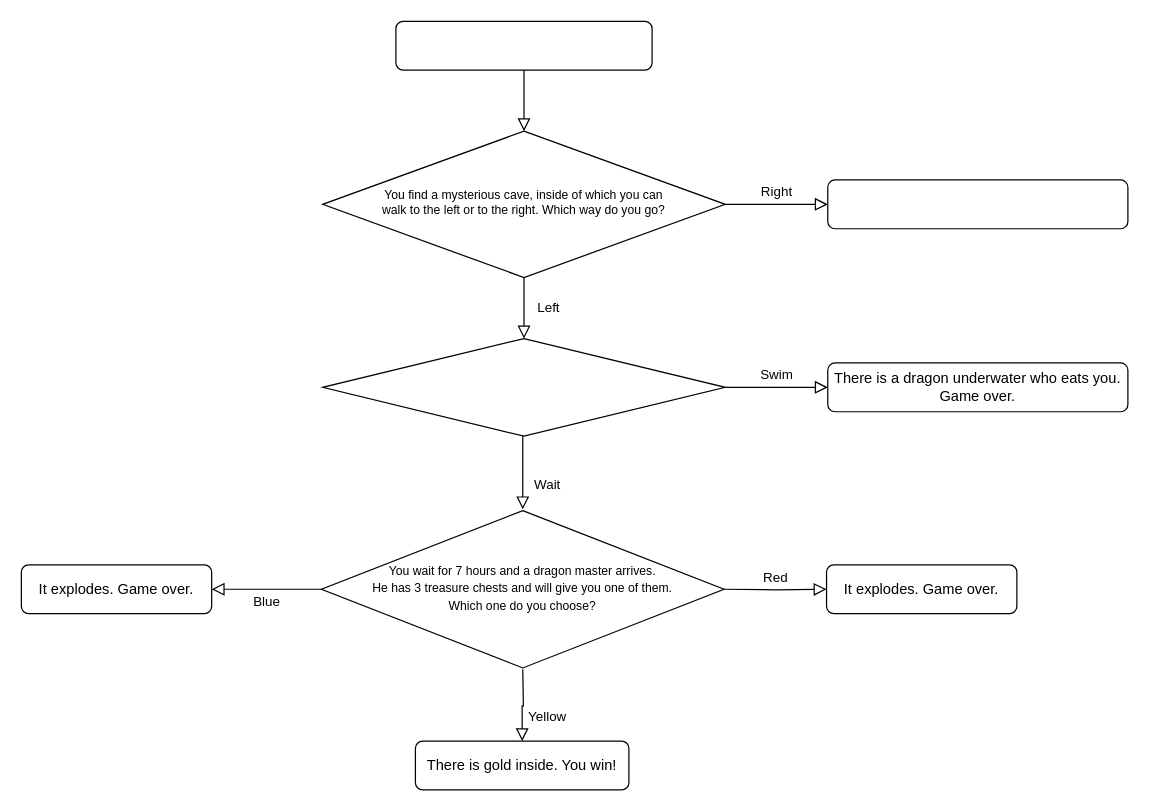
Image size: 1149x811. Some labels were removed from this diagram. Here are the shapes that lost their labels. From the top down, the centre of each, then its label:
At point (523, 45): "Your mission is to find the treasure.".
At point (977, 204): "There is a dragon who shoots fire at you. Game over.".
At point (523, 386): "Deeper into the cave, there's a lake. What do you do?".
